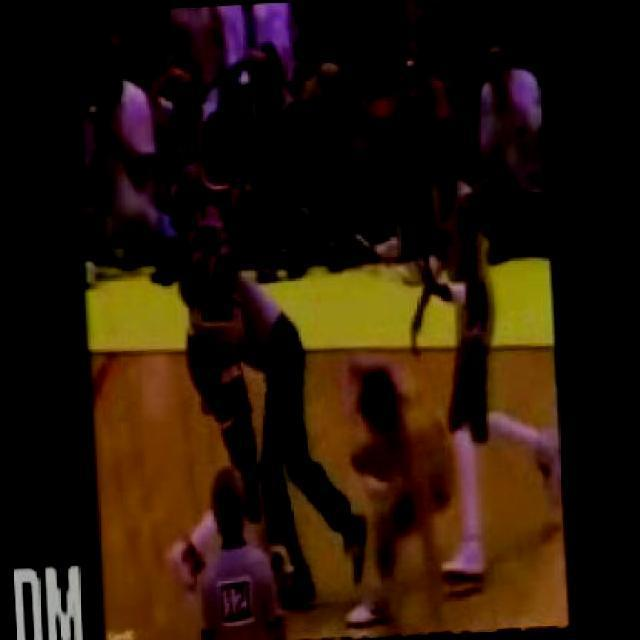fight: (165, 110, 322, 498)
